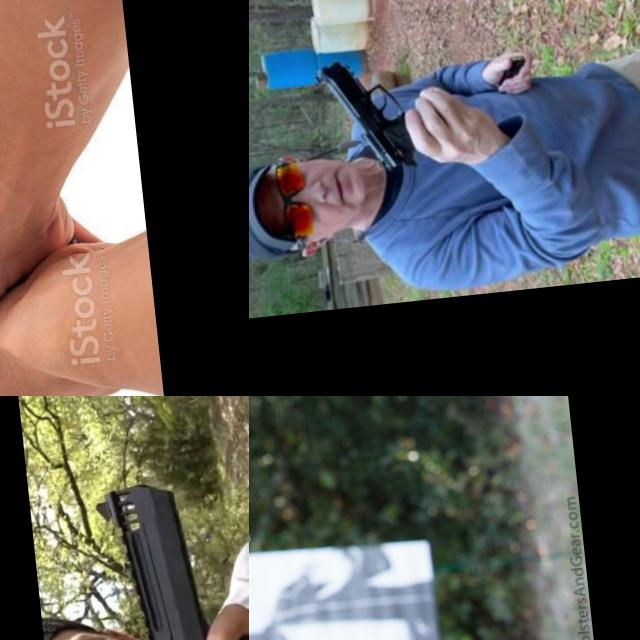handgun: (91, 459, 249, 640), (309, 48, 422, 181), (0, 251, 70, 396), (249, 396, 329, 466)
